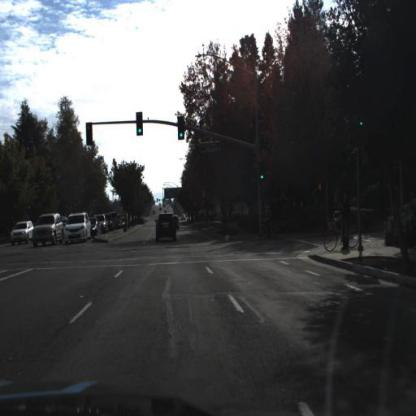biker: (263, 200, 271, 242)
car: (33, 213, 64, 250), (65, 213, 92, 248), (155, 212, 178, 246), (10, 222, 33, 247), (91, 218, 100, 236), (176, 215, 181, 232)
pedestrian: (325, 191, 363, 261), (256, 200, 278, 242)
trafficLight-Green: (259, 162, 268, 189), (136, 111, 144, 137), (178, 115, 185, 142), (259, 163, 266, 184)
trafficLight-RedLeft: (86, 122, 94, 147)
